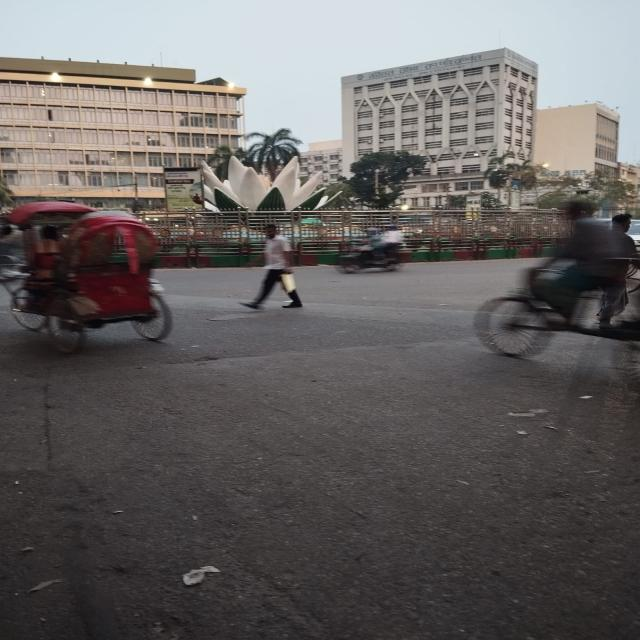person: (240, 223, 306, 310), (604, 213, 640, 319)
